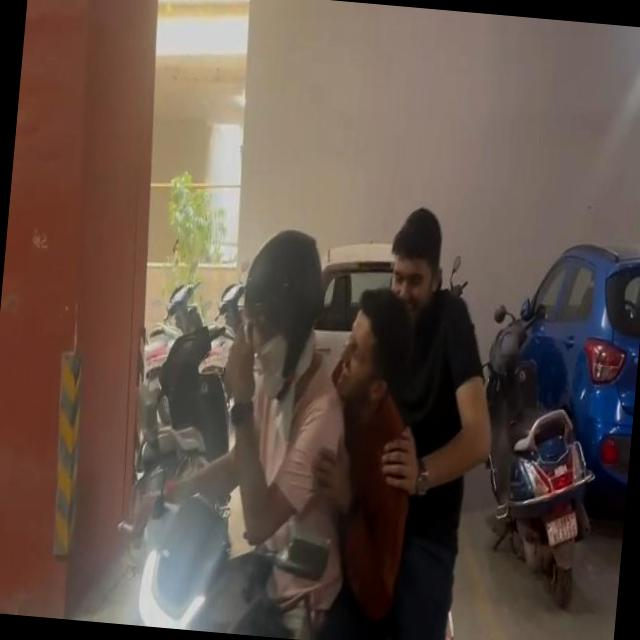motorcycle: (96, 490, 330, 640)
person: (325, 195, 523, 606), (208, 221, 384, 640), (287, 287, 432, 640)
